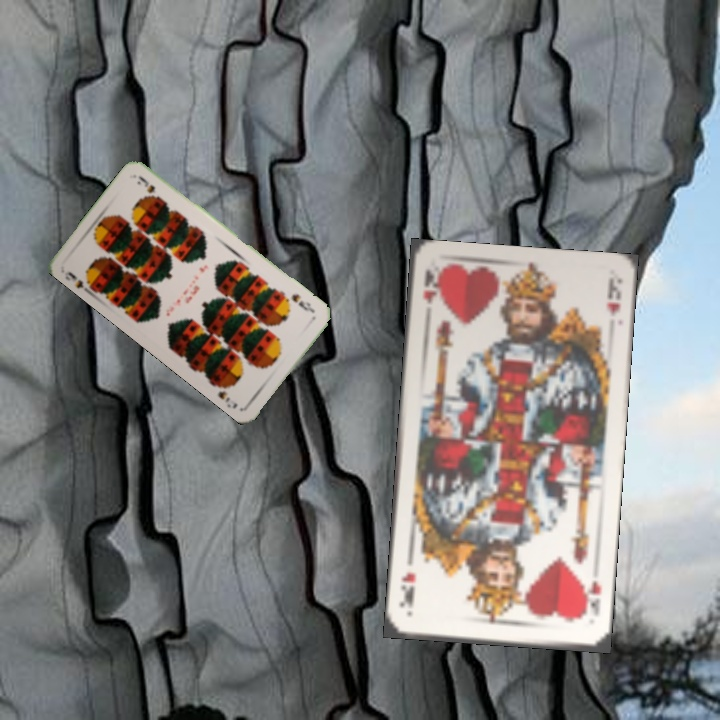HK: (577, 576, 604, 621), (419, 265, 443, 307)
S9: (61, 267, 96, 296), (287, 290, 318, 316)
